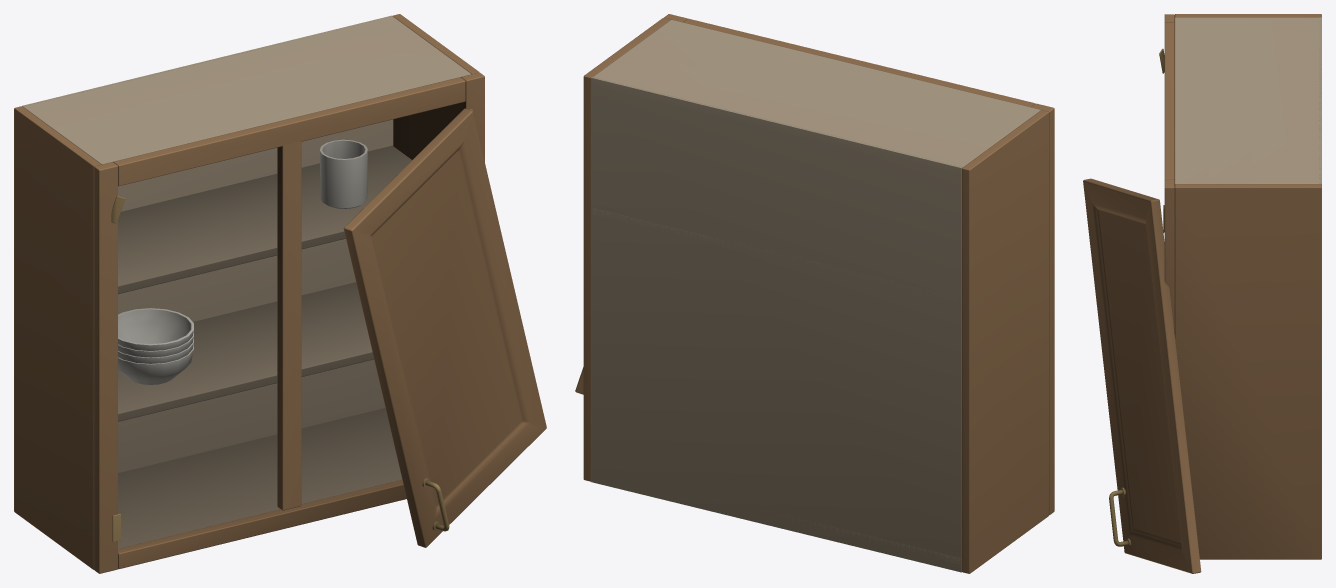
Rendered from kitchen_wall_cab_76.glb.
The picture shows the model from 3 angles, left to right: view 1: azimuth 30°, elevation 25°; view 2: azimuth 150°, elevation 25°; view 3: azimuth 270°, elevation 25°; orthographic projection. The views are drawn at different scales.
Visible parts, largest first — view 1: kitchen_wall_cab_76; view 2: kitchen_wall_cab_76; view 3: kitchen_wall_cab_76.
Part boxes in pixels (x1=…): kitchen_wall_cab_76: x1=14, y1=14, x2=546, y2=573; kitchen_wall_cab_76: x1=575, y1=14, x2=1054, y2=573; kitchen_wall_cab_76: x1=1083, y1=14, x2=1321, y2=573.
Size of the model in its own units: 0.9104 by 0.8206 by 0.4417.
